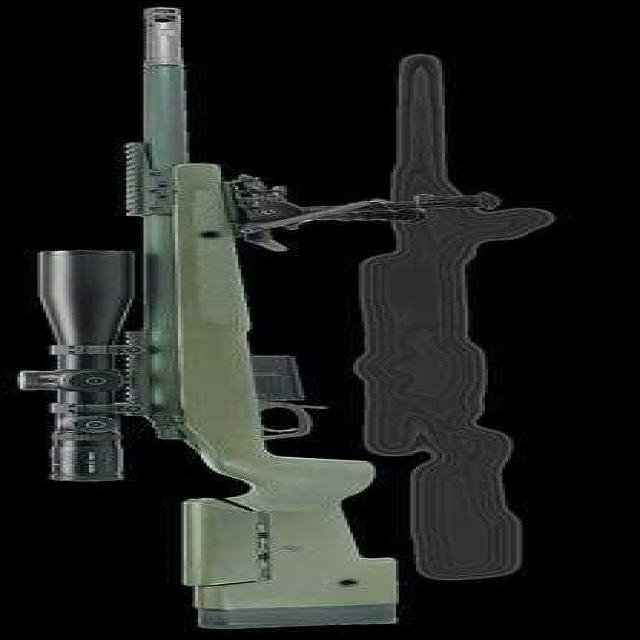heavyweapon: (18, 4, 420, 635)
